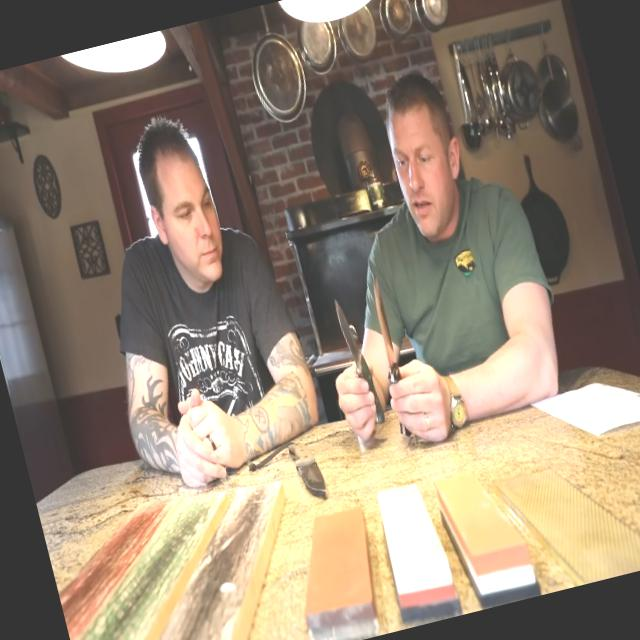knife: (359, 253, 439, 408), (307, 281, 386, 421)
